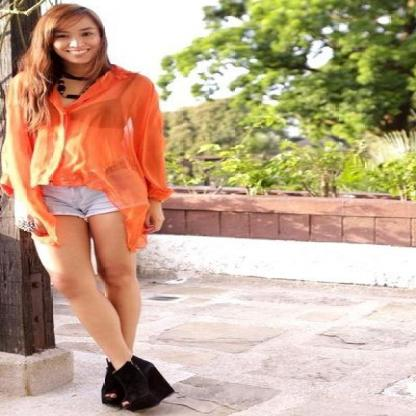shirt: (0, 64, 170, 252)
shoe: (101, 356, 177, 413)
shorts: (40, 178, 116, 219)
